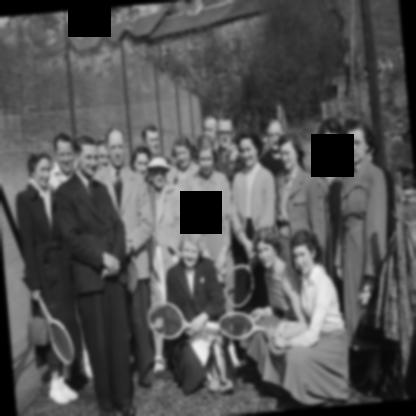handbag: (355, 282, 397, 350), (27, 295, 50, 346)
